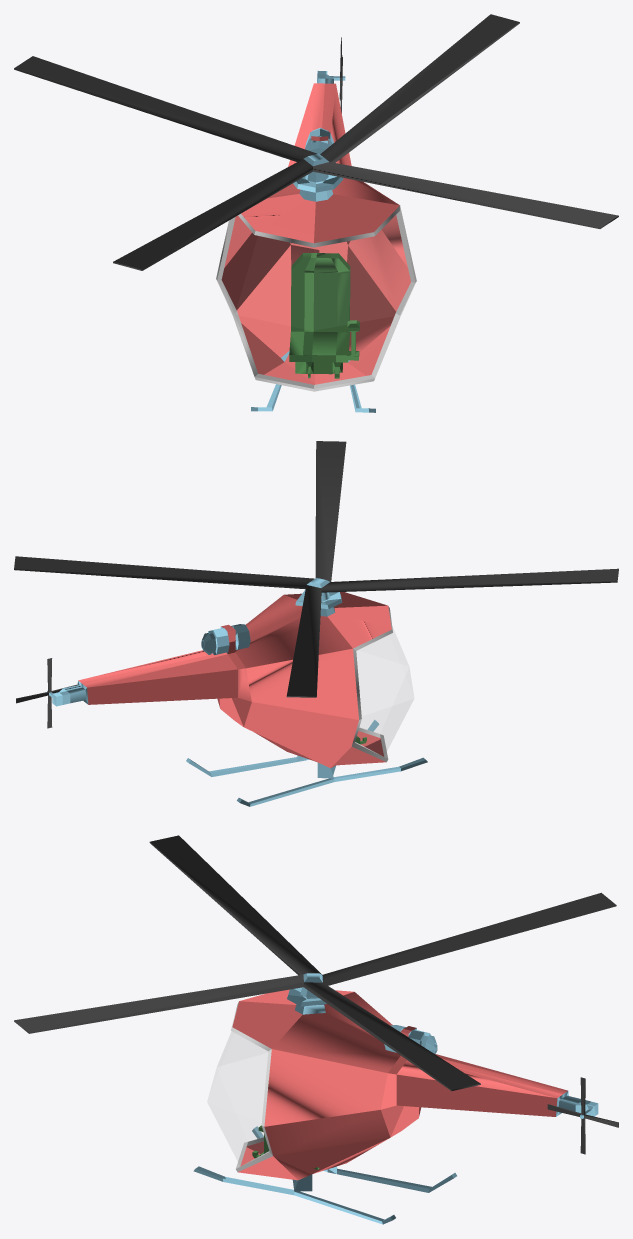
File: Helicopter.fbx
3 views of the same model, one above another, from view 1: azimuth 30°, elevation 25°; view 2: azimuth 150°, elevation 25°; view 3: azimuth 270°, elevation 25° (orthographic). The views are drawn at different scales.
Visible parts, largest first — view 1: helicopter, Cube; view 2: helicopter, glass; view 3: helicopter, glass.
Boxes of the visible parts, x1,y1,x2,y2 form: helicopter: (14, 14, 618, 412); Cube: (289, 253, 359, 378); helicopter: (14, 441, 618, 806); glass: (357, 629, 413, 755); helicopter: (14, 835, 618, 1224); glass: (208, 1032, 267, 1164).
Size of the model in its own units: 580 by 235 by 582.
